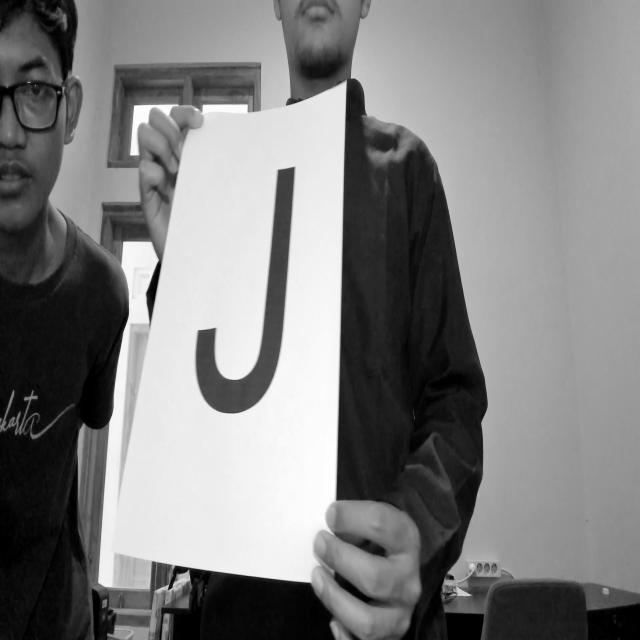j: (190, 150, 304, 438)
